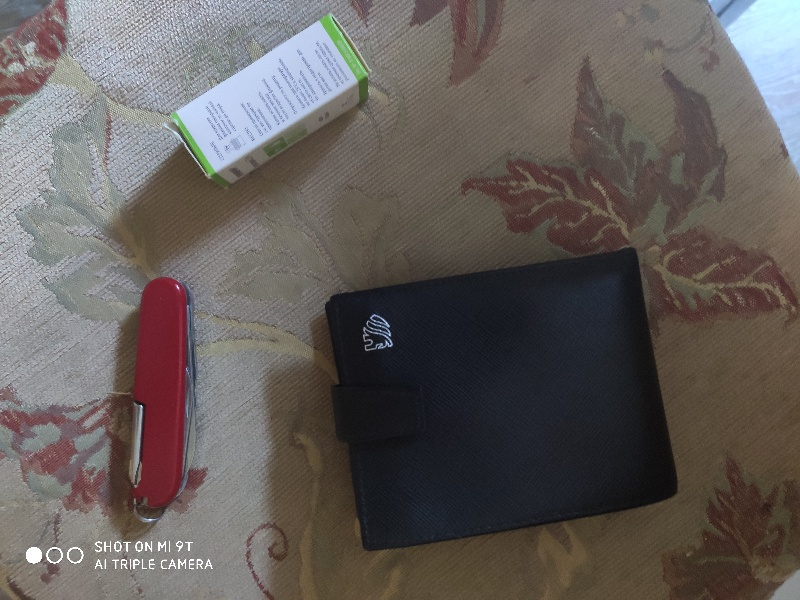ifrin: (161, 18, 375, 175)
knife: (115, 268, 201, 525)
wallet: (325, 248, 675, 551)
